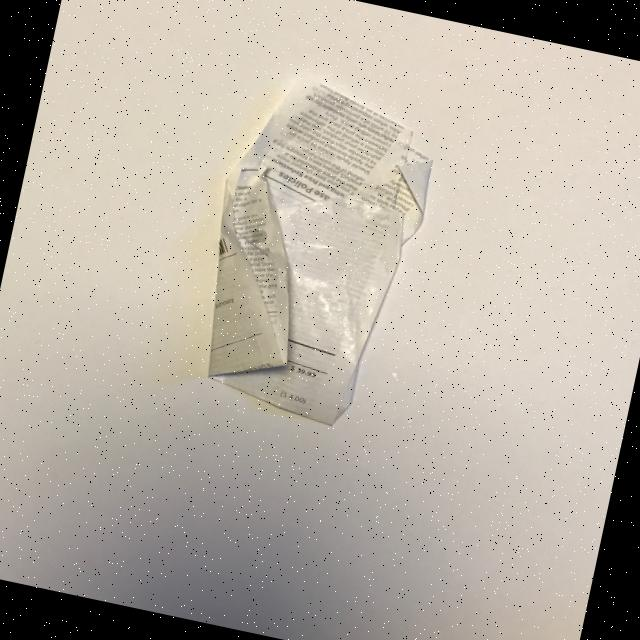paper: (177, 61, 448, 436)
